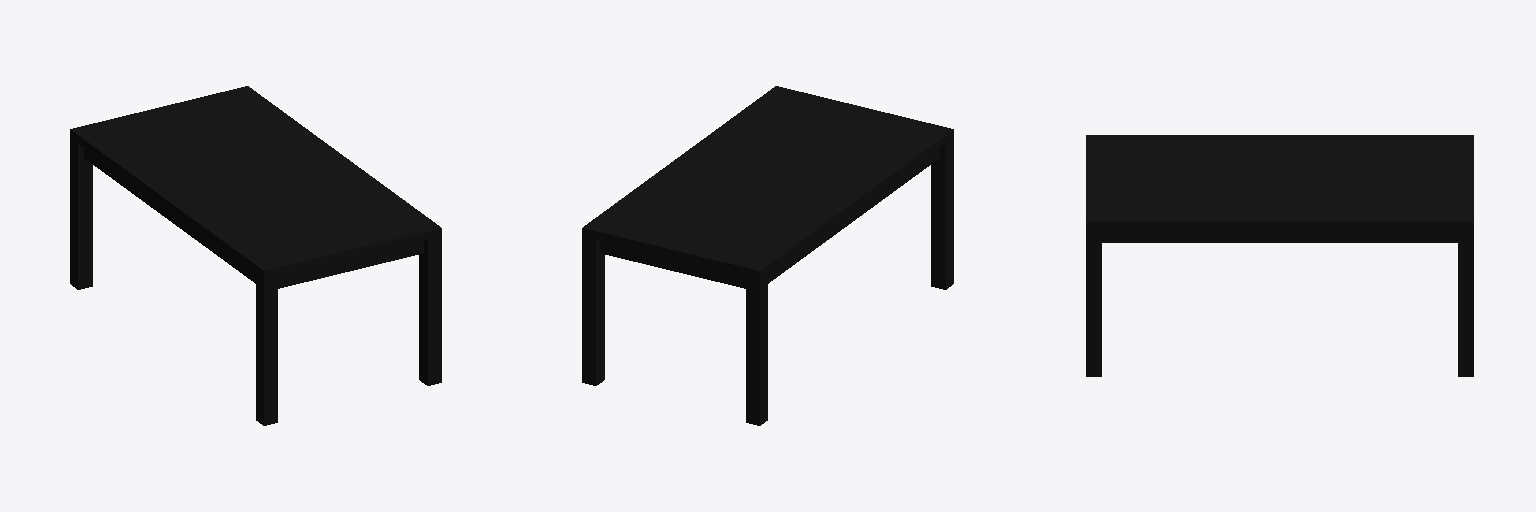
The model's file is black_table.obj.
3 views of the same model, side by side, from view 1: azimuth 30°, elevation 25°; view 2: azimuth 150°, elevation 25°; view 3: azimuth 270°, elevation 25° (orthographic).
Visible parts, largest first — view 1: table_Cube.008; view 2: table_Cube.008; view 3: table_Cube.008.
Part boxes in pixels (left/top/right/bottom): table_Cube.008: left=70, top=86, right=441, bottom=425; table_Cube.008: left=582, top=86, right=953, bottom=425; table_Cube.008: left=1086, top=135, right=1473, bottom=376.
Size of the model in its own units: 0.9 by 0.75 by 1.7.